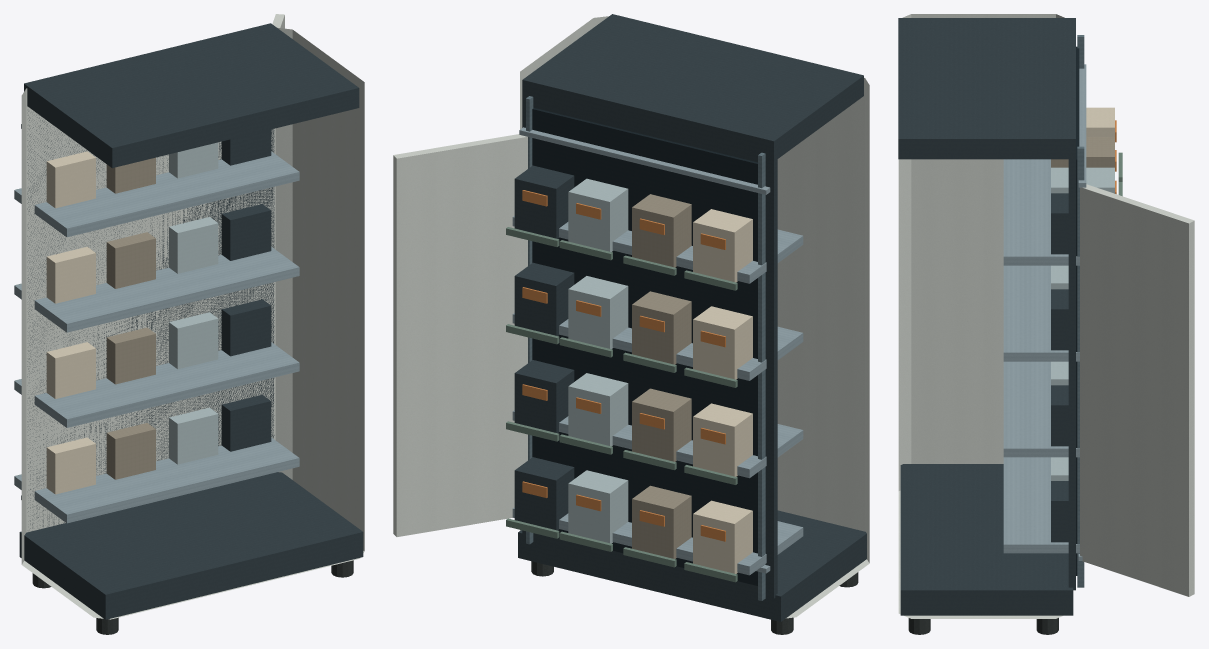
File: pantry_cabinet.glb
3 renders of one model, left to right at view 1: azimuth 30°, elevation 25°; view 2: azimuth 150°, elevation 25°; view 3: azimuth 270°, elevation 25°, orthographic.
Visible parts, largest first — view 1: static__shell, static__graphite, Shelf__alloy, Food_Containers__cream, front_frame__graphite, Food_Containers__graphite, Food_Containers__fabricwarm, Food_Containers__tank, feet__rubber; view 2: Pantry_Door__shell, static__graphite, static__shell, interior__carbon, Food_Containers__tank, Food_Containers__fabricwarm, Food_Containers__cream, Food_Containers__graphite, front_frame__graphite, Shelf_Restraints__fabric, Shelf__alloy, Container_Labels__amber (+3 smaller); view 3: static__graphite, Pantry_Door__shell, static__shell, Shelf__alloy, Food_Containers__graphite, front_frame__graphite, Food_Containers__tank, static__trim, interior__carbon, Food_Containers__fabricwarm, Food_Containers__cream, static__alloy (+1 smaller).
Boxes of the visible parts, x1=… form: static__shell: x1=21, y1=27, x2=364, y2=619; static__graphite: x1=19, y1=23, x2=363, y2=619; Shelf__alloy: x1=14, y1=151, x2=299, y2=523; Food_Containers__cream: x1=46, y1=151, x2=95, y2=494; front_frame__graphite: x1=27, y1=111, x2=274, y2=528; Food_Containers__graphite: x1=221, y1=129, x2=271, y2=451; Food_Containers__fabricwarm: x1=106, y1=157, x2=155, y2=479; Food_Containers__tank: x1=169, y1=142, x2=218, y2=464; feet__rubber: x1=32, y1=560, x2=353, y2=634; Pantry_Door__shell: x1=393, y1=134, x2=527, y2=536; static__graphite: x1=518, y1=14, x2=866, y2=621; static__shell: x1=520, y1=16, x2=869, y2=618; interior__carbon: x1=532, y1=107, x2=757, y2=585; Food_Containers__tank: x1=568, y1=178, x2=628, y2=543; Food_Containers__fabricwarm: x1=632, y1=194, x2=691, y2=558; Food_Containers__cream: x1=693, y1=209, x2=752, y2=573; Food_Containers__graphite: x1=514, y1=165, x2=574, y2=530; front_frame__graphite: x1=522, y1=99, x2=777, y2=598; Shelf_Restraints__fabric: x1=506, y1=227, x2=737, y2=582; Shelf__alloy: x1=512, y1=216, x2=803, y2=575; Container_Labels__amber: x1=522, y1=190, x2=725, y2=541; static__graphite: x1=898, y1=18, x2=1075, y2=615; Pantry_Door__shell: x1=1080, y1=184, x2=1194, y2=596; static__shell: x1=898, y1=14, x2=1064, y2=618; Shelf__alloy: x1=1003, y1=159, x2=1079, y2=553; Food_Containers__graphite: x1=1051, y1=193, x2=1114, y2=542; front_frame__graphite: x1=1068, y1=153, x2=1075, y2=590; Food_Containers__tank: x1=1051, y1=167, x2=1114, y2=480; static__trim: x1=1077, y1=35, x2=1084, y2=587; interior__carbon: x1=1076, y1=46, x2=1079, y2=575; Food_Containers__fabricwarm: x1=1051, y1=137, x2=1114, y2=167; Food_Containers__cream: x1=1086, y1=107, x2=1114, y2=136; static__alloy: x1=1078, y1=64, x2=1086, y2=560.
Size of the model in its own units: 1.37 by 1.96 by 1.07.
11 materials, 11 textured.
